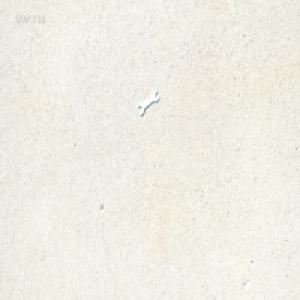Wrench: (137, 90, 159, 117)
